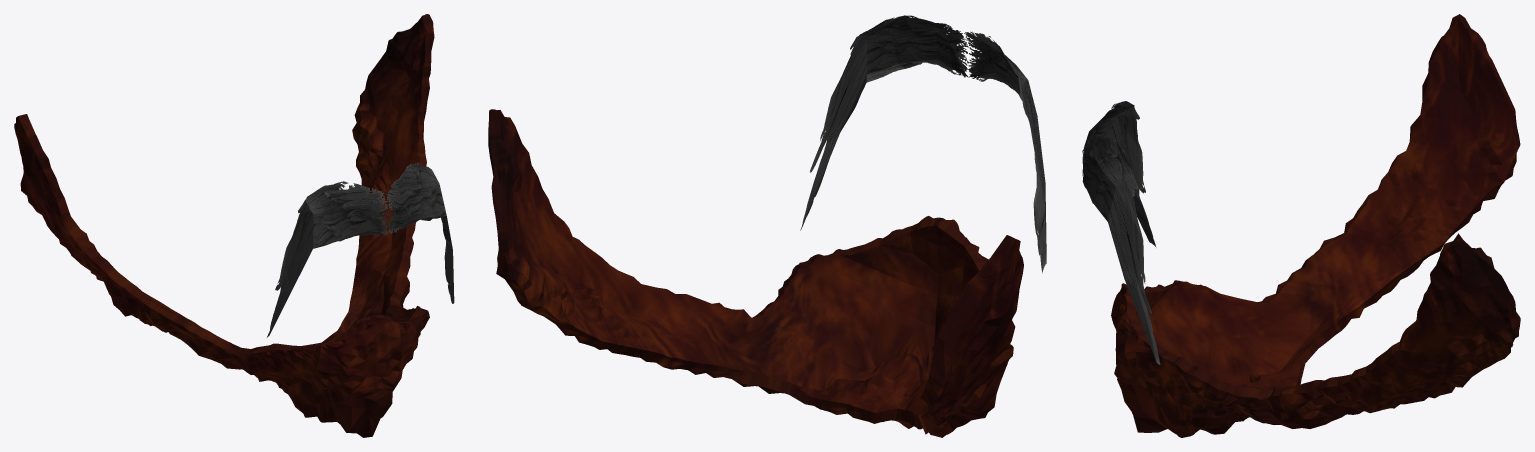
Rendered from ewb_beard_faun.glb.
The picture shows the model from 3 angles, left to right: view 1: azimuth 30°, elevation 25°; view 2: azimuth 150°, elevation 25°; view 3: azimuth 270°, elevation 25°; orthographic projection. The views are drawn at different scales.
Parts seen in each view (by area): view 1: ewb_beard_faun; view 2: ewb_beard_faun; view 3: ewb_beard_faun.
Boxes of the visible parts, box(x1,y1,x2,y2) form: ewb_beard_faun: box(14, 14, 454, 437); ewb_beard_faun: box(488, 15, 1046, 437); ewb_beard_faun: box(1082, 14, 1520, 437).
Size of the model in its own units: 0.1431 by 0.092 by 0.1169.
Materials: 1 (1 with a texture image).
